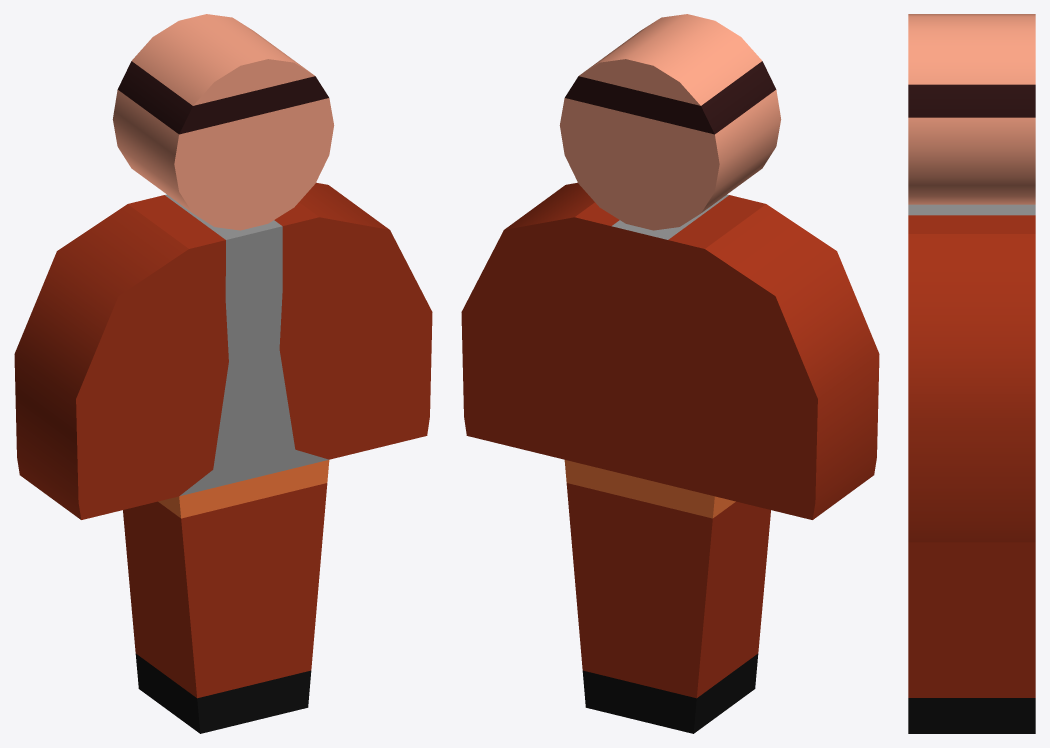
The model's file is cool_prisoner.fbx.
3 views of the same model, side by side, from view 1: azimuth 30°, elevation 25°; view 2: azimuth 150°, elevation 25°; view 3: azimuth 270°, elevation 25° (orthographic). The views are drawn at different scales.
Visible parts, largest first — view 1: Box001, Cylinder001; view 2: Box001, Cylinder001; view 3: Box001, Cylinder001.
Boxes of the visible parts, x1,y1,x2,y2 form: Box001: (14, 182, 432, 733); Cylinder001: (112, 14, 334, 230); Box001: (461, 182, 879, 733); Cylinder001: (559, 14, 781, 230); Box001: (908, 204, 1035, 733); Cylinder001: (908, 14, 1035, 204).
Bounding box in the file's own units: 66.88 × 118 × 20.
